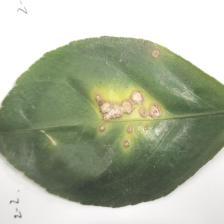canker: (82, 83, 162, 142)
